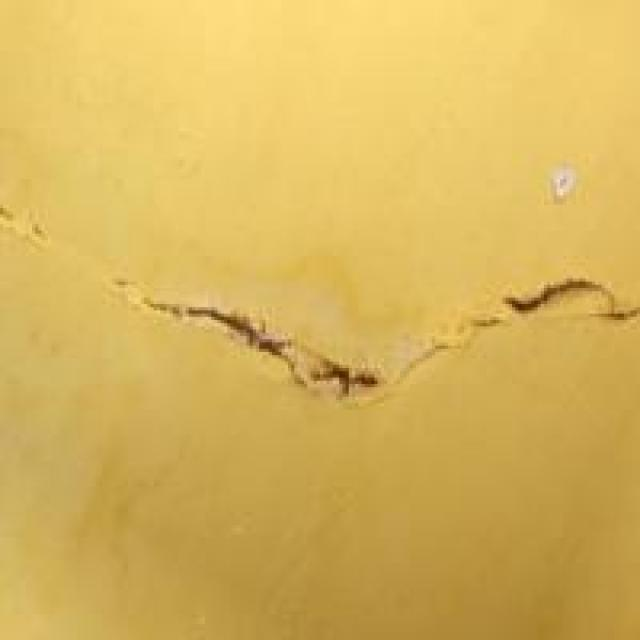crack: (61, 160, 630, 448)
